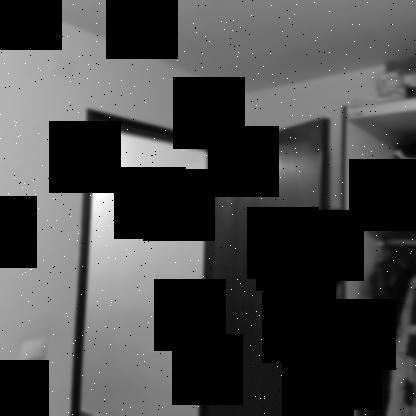Porte: (68, 106, 333, 416)
